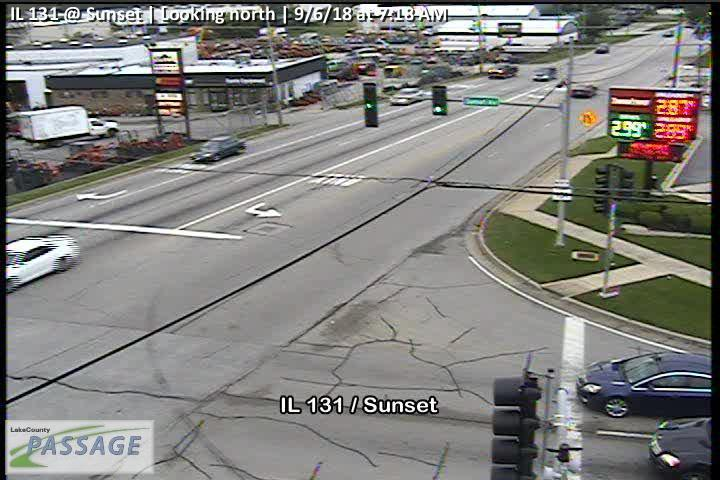SUV: (6, 233, 80, 295), (595, 42, 609, 53)
Sedan: (575, 352, 712, 419), (190, 135, 246, 164), (388, 86, 424, 105), (569, 82, 599, 99), (487, 63, 519, 78), (531, 65, 556, 81)
Truck: (12, 104, 118, 148)
